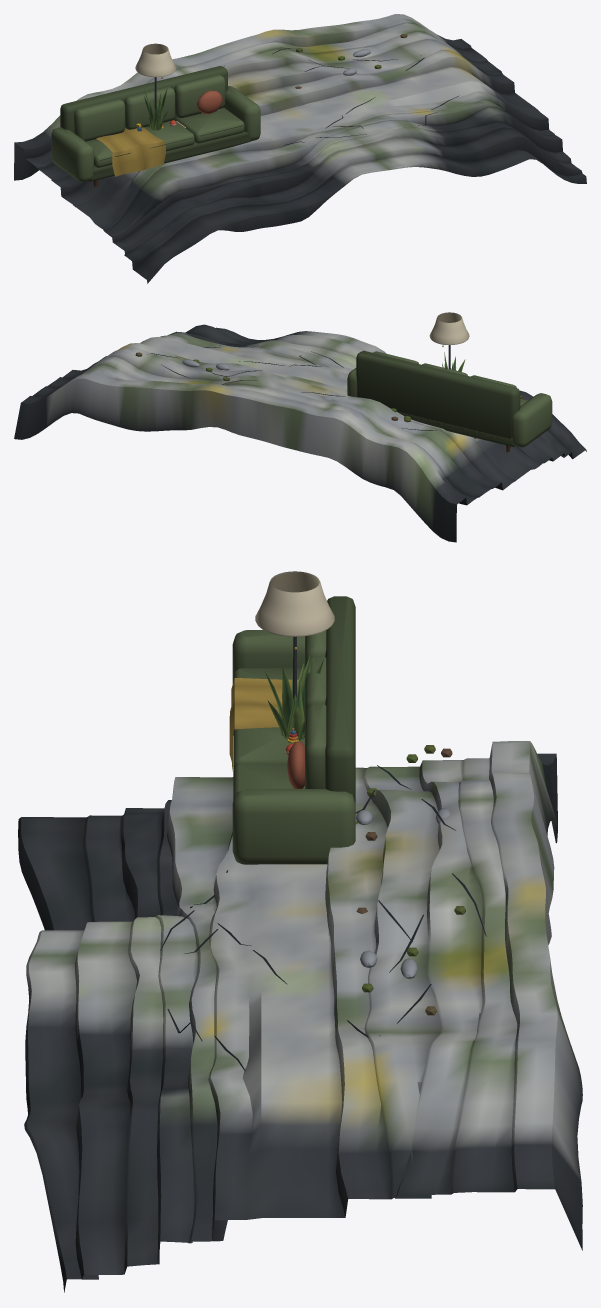
Rendered from room.glb.
3 views of the same model, one above another, from view 1: azimuth 30°, elevation 25°; view 2: azimuth 150°, elevation 25°; view 3: azimuth 270°, elevation 25° (orthographic). The views are drawn at different scales.
Visible parts, largest first — view 1: holme, soffa, soffa-filt, golvlampa, krukvaxt; view 2: holme, soffa, golvlampa; view 3: holme, soffa, golvlampa, soffa-filt, krukvaxt.
Part boxes in pixels (x1,y1,x2,y2): holme: [14, 14, 586, 283]; soffa: [51, 66, 260, 186]; soffa-filt: [96, 127, 165, 176]; golvlampa: [135, 43, 175, 110]; krukvaxt: [144, 87, 167, 130]; holme: [14, 324, 586, 542]; soffa: [347, 350, 552, 452]; golvlampa: [429, 312, 469, 369]; holme: [18, 741, 582, 1292]; soffa: [232, 596, 355, 864]; golvlampa: [255, 571, 334, 698]; soffa-filt: [229, 678, 298, 770]; krukvaxt: [265, 655, 324, 740].
Bounding box in the file's own units: 31.16 × 11.72 × 16.81.
